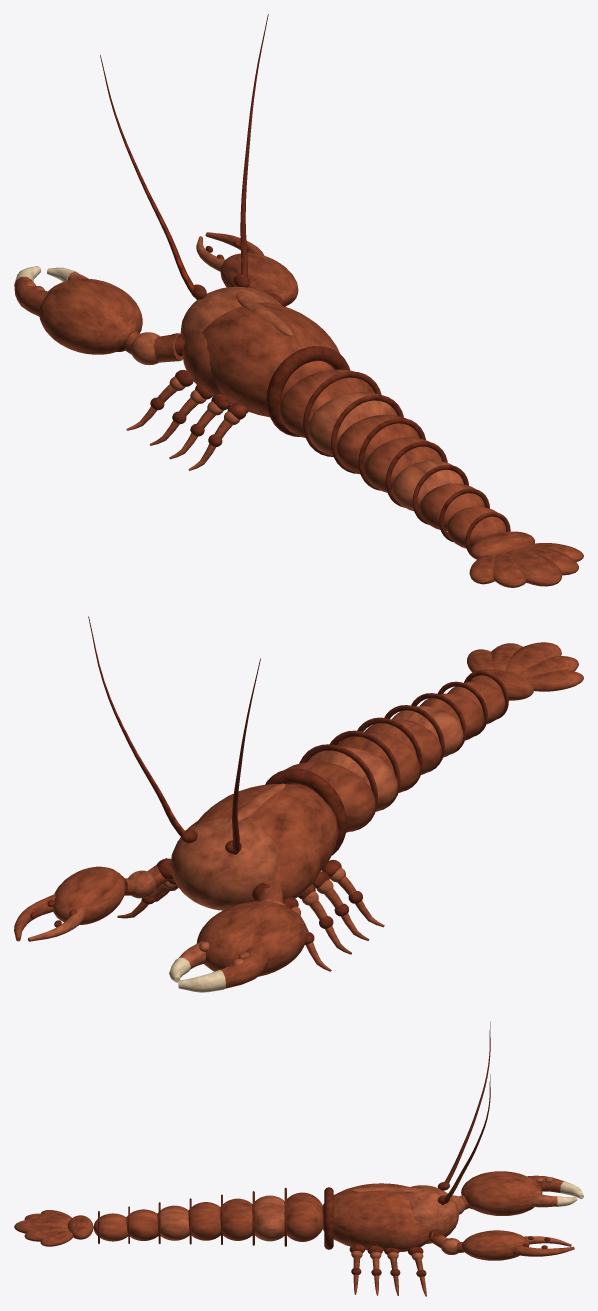
3 renders of one model, top to bottom at view 1: azimuth 30°, elevation 25°; view 2: azimuth 150°, elevation 25°; view 3: azimuth 270°, elevation 25°, orthographic. The views are drawn at different scales.
Visible parts, largest first — view 1: abdomen_chain, cephalothorax, crusher_chela, tail_fan, walking_leg_array, cutter_chela, long_antenna; view 2: cephalothorax, abdomen_chain, crusher_chela, cutter_chela, tail_fan, walking_leg_array, long_antenna; view 3: abdomen_chain, cephalothorax, crusher_chela, cutter_chela, tail_fan, walking_leg_array, long_antenna.
Part boxes in pixels (left/top/right/bottom): abdomen_chain: left=279, top=369, right=510, bottom=555; cephalothorax: left=180, top=286, right=349, bottom=437; crusher_chela: left=14, top=266, right=184, bottom=365; tail_fan: left=469, top=531, right=583, bottom=587; walking_leg_array: left=126, top=370, right=248, bottom=470; cutter_chela: left=196, top=232, right=298, bottom=306; long_antenna: left=100, top=14, right=268, bottom=299; cephalothorax: left=171, top=768, right=346, bottom=910; abdomen_chain: left=285, top=671, right=508, bottom=832; crusher_chela: left=169, top=881, right=307, bottom=992; cutter_chela: left=14, top=858, right=173, bottom=941; tail_fan: left=467, top=642, right=583, bottom=700; walking_leg_array: left=117, top=859, right=384, bottom=971; long_antenna: left=88, top=616, right=260, bottom=854; abdomen_chain: left=93, top=1187, right=323, bottom=1246; cephalothorax: left=322, top=1183, right=458, bottom=1251; crusher_chela: left=451, top=1171, right=583, bottom=1215; cutter_chela: left=429, top=1229, right=574, bottom=1260; tail_fan: left=14, top=1210, right=93, bottom=1246; walking_leg_array: left=349, top=1244, right=426, bottom=1296; long_antenna: left=437, top=1021, right=490, bottom=1204.
Size of the model in its own units: 3.77 by 5.13 by 12.26.
Materials: 21 (21 with a texture image).
